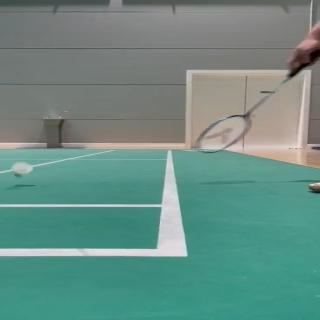Shuttle: (12, 161, 34, 178)
